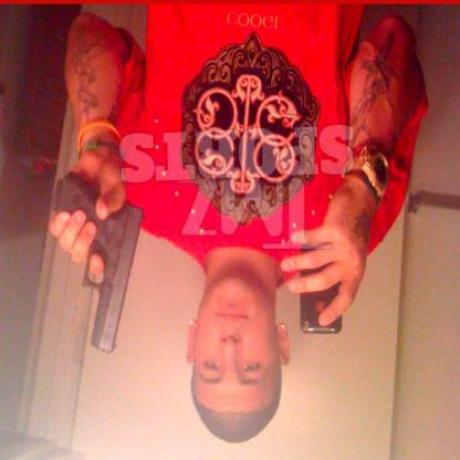1: (49, 4, 429, 446)
weapon: (43, 166, 151, 358)
